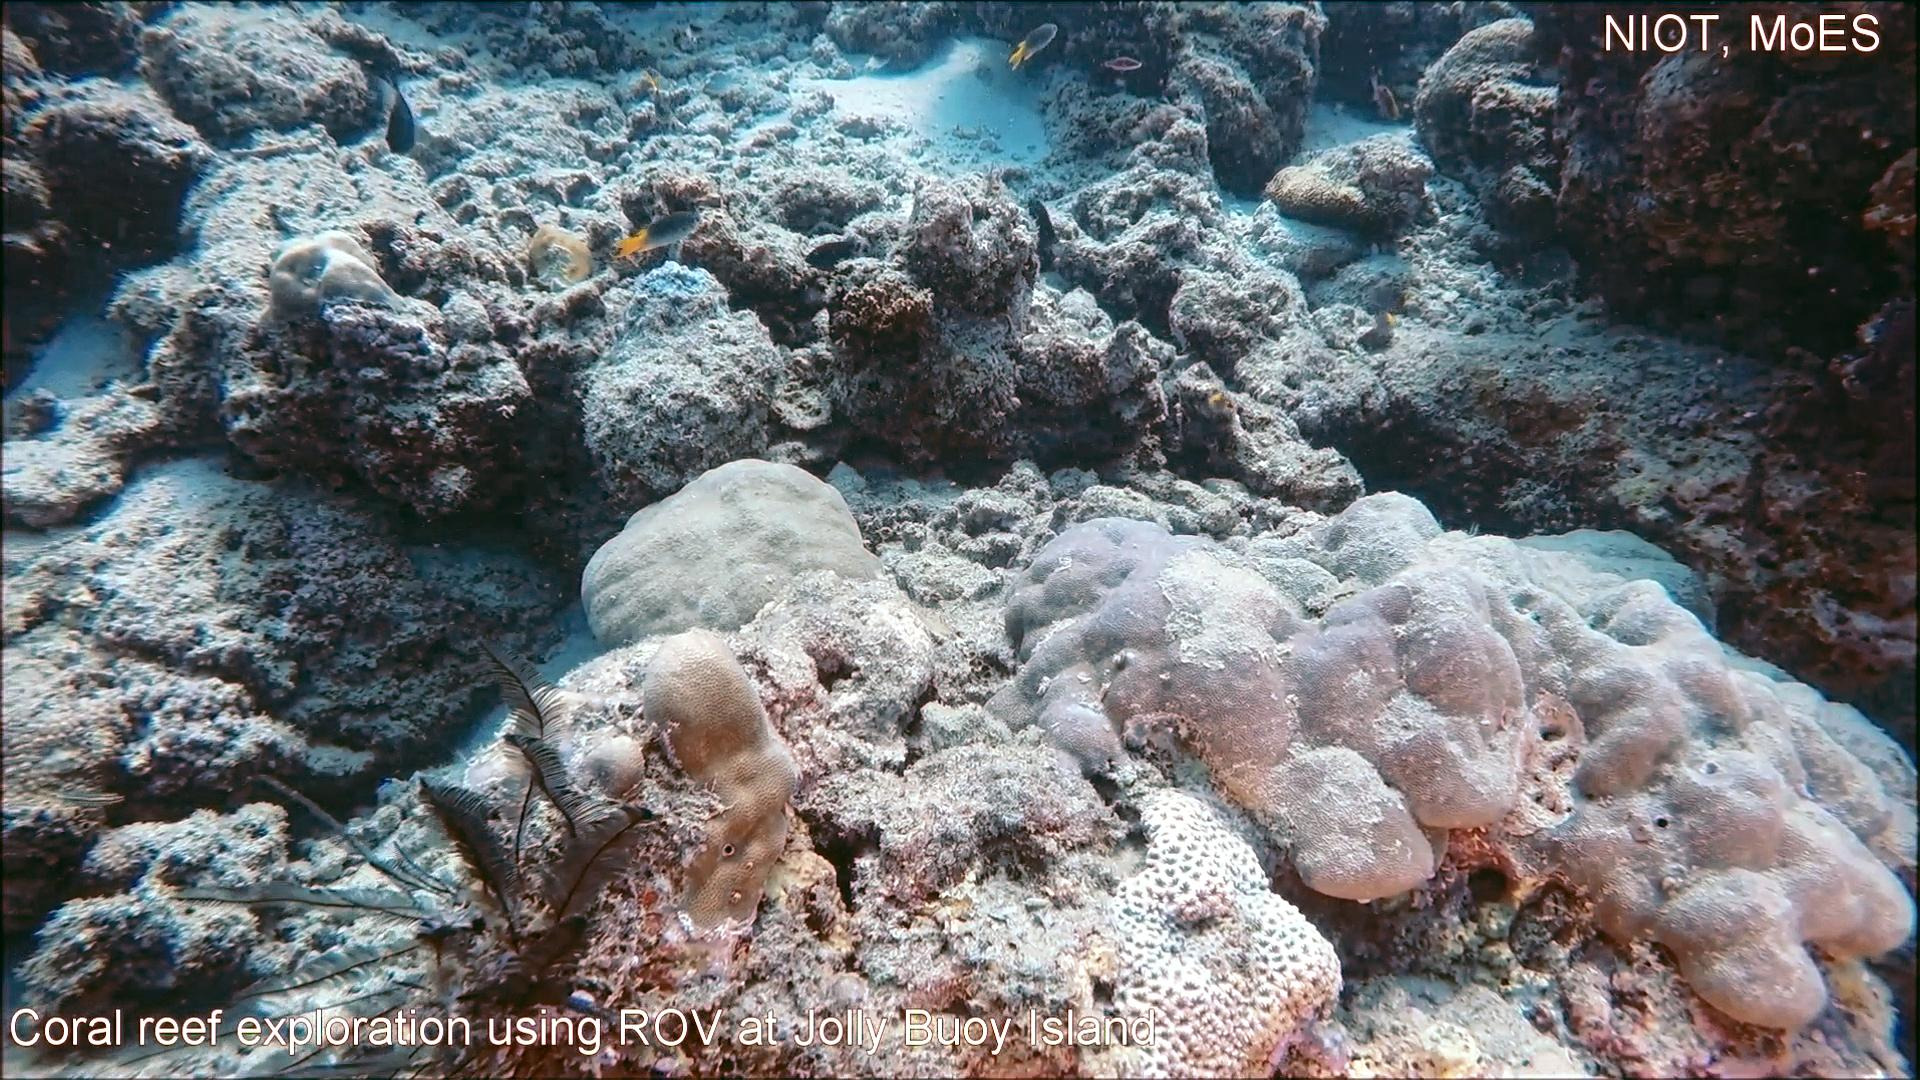Feather star-Crinoid star: (109, 625, 715, 1080)
Goniastrea-Goniastrea pectinata: (1096, 778, 1349, 1080)
Porites-Porites pukoensis: (1396, 480, 1920, 1040)
Turbinaria-Turbinaria stellulata: (0, 704, 104, 865)
